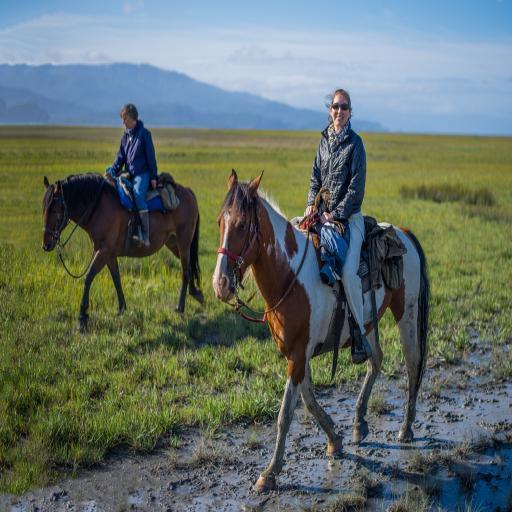horse: (212, 170, 430, 496), (40, 170, 208, 328)
